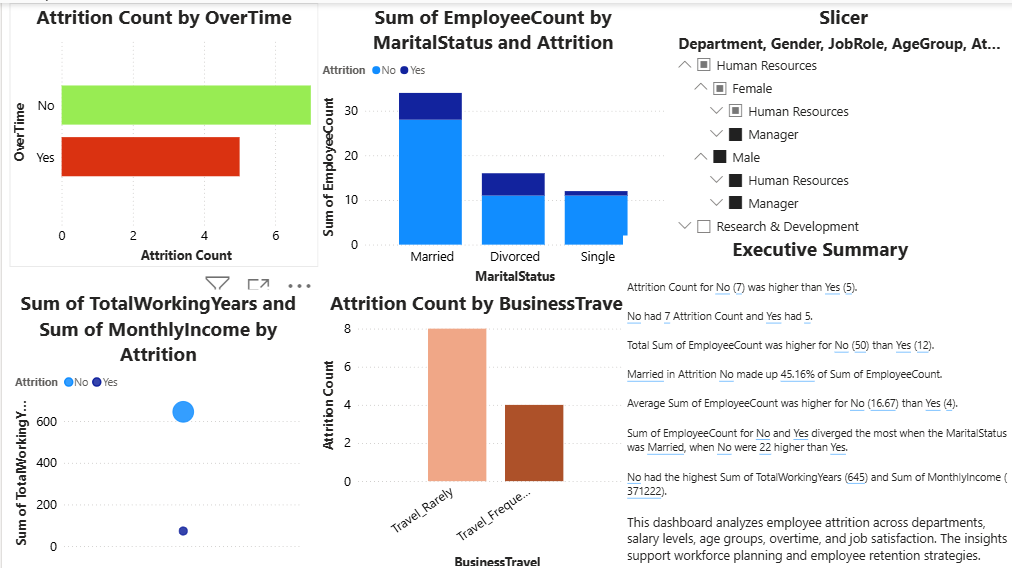

What the dashboard file says about the page in this screenshot:
{"tool":"powerbi","page":{"name":"HR Analytics Dashboard3","canvas":[1280,720],"ordinal":2},"visuals":[{"type":"clusteredBarChart","fields":{"Category":["HR_Analytics.OverTime"],"Y":["HR_Analytics.Attrition Count"]},"box":[9.4,0,389.3,332.6],"z":0},{"type":"columnChart","fields":{"Category":["HR_Analytics.BusinessTravel"],"Y":["HR_Analytics.Attrition Count"]},"box":[398.3,360.5,404.5,358.4],"z":1000},{"type":"columnChart","fields":{"Category":["HR_Analytics.MaritalStatus"],"Series":["HR_Analytics.Attrition"],"Y":["Sum(HR_Analytics.EmployeeCount)"]},"box":[398.3,0,440.2,358.4],"z":2000},{"type":"scatterChart","fields":{"Y":["Sum(HR_Analytics.TotalWorkingYears)"],"Size":["Sum(HR_Analytics.MonthlyIncome)"],"Series":["HR_Analytics.Attrition"]},"box":[10.5,360.5,371,358.4],"z":3000},{"type":"slicer","title":"Slicer","fields":{"Values":["HR_Analytics.Department","HR_Analytics.Gender","HR_Analytics.JobRole","HR_Analytics.AgeGroup","HR_Analytics.Attrition","HR_Analytics.SalarySlab"]},"box":[839.1,0,442.2,332.6],"z":4000},{"type":"textbox","title":"Executive Summary","box":[803.2,332.6,476.2,385.5],"z":5000}]}

Visuals, with their boxes in screenshot pixels (x1, y1, x2, y2), scaled from the page's 1280x720 canvas onto the 1012x568 screenshot:
clusteredBarChart - HR_Analytics.OverTime x HR_Analytics.Attrition Count: (7,0,315,262)
columnChart - HR_Analytics.BusinessTravel x HR_Analytics.Attrition Count: (315,284,635,567)
columnChart - HR_Analytics.MaritalStatus x HR_Analytics.Attrition: (315,0,663,283)
scatterChart - Sum(HR_Analytics.TotalWorkingYears) x Sum(HR_Analytics.MonthlyIncome): (8,284,302,567)
"Slicer" slicer: (663,0,1011,262)
"Executive Summary" textbox: (635,262,1011,567)
